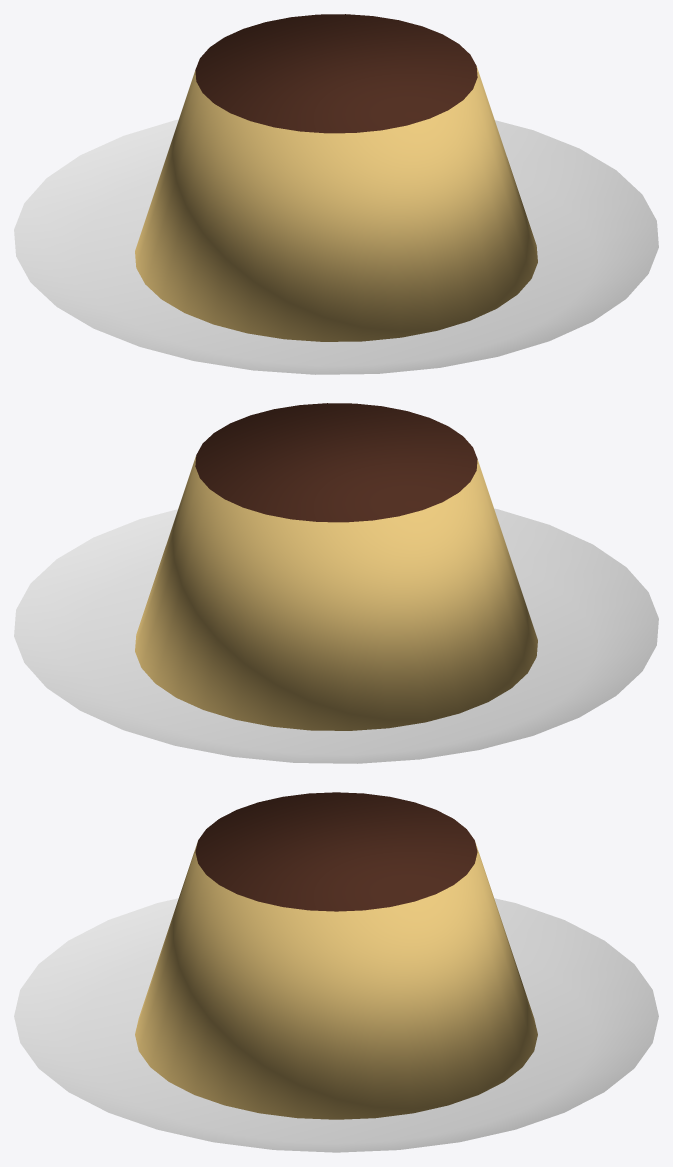
File: pudding.glb
3 renders of one model, top to bottom at view 1: azimuth 30°, elevation 25°; view 2: azimuth 150°, elevation 25°; view 3: azimuth 270°, elevation 25°, orthographic.
Parts seen in each view (by area): view 1: Cylinder, Circle; view 2: Cylinder, Circle; view 3: Cylinder, Circle.
Boxes of the visible parts, x1=… form: Cylinder: x1=135, y1=14, x2=537, y2=341; Circle: x1=14, y1=119, x2=658, y2=374; Cylinder: x1=135, y1=403, x2=537, y2=730; Circle: x1=14, y1=508, x2=658, y2=763; Cylinder: x1=135, y1=792, x2=537, y2=1119; Circle: x1=14, y1=898, x2=658, y2=1152.
Size of the model in its own units: 0.16 by 0.05 by 0.16.
